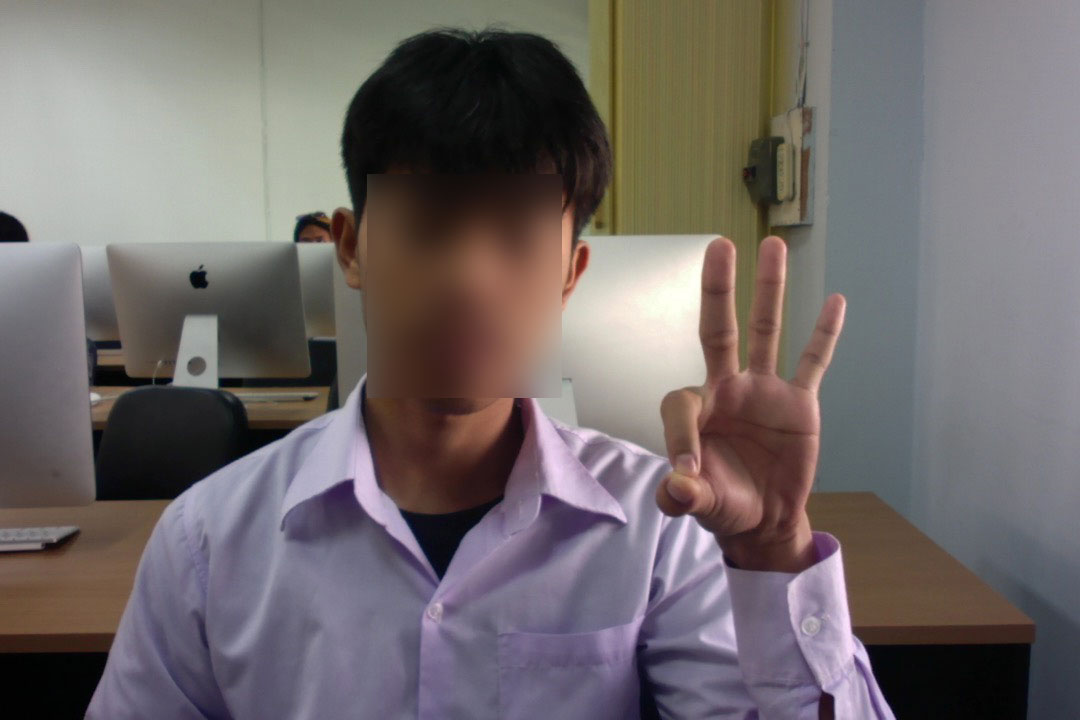for: (601, 215, 890, 600)
